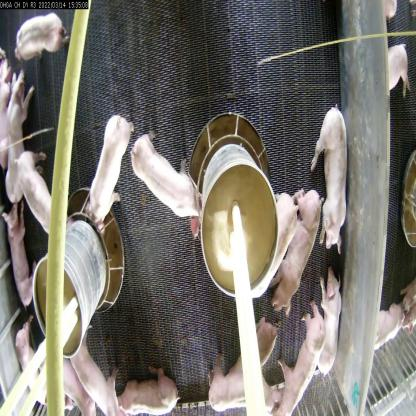Pig: (306, 103, 353, 255), (133, 134, 207, 230), (275, 189, 326, 317), (275, 310, 324, 415), (13, 141, 60, 238), (85, 114, 127, 219), (208, 355, 281, 415), (224, 316, 278, 393), (66, 333, 117, 414), (5, 76, 35, 200), (12, 316, 53, 404), (115, 359, 179, 415), (4, 193, 36, 304), (317, 268, 347, 377), (17, 3, 66, 62), (267, 193, 298, 273)
